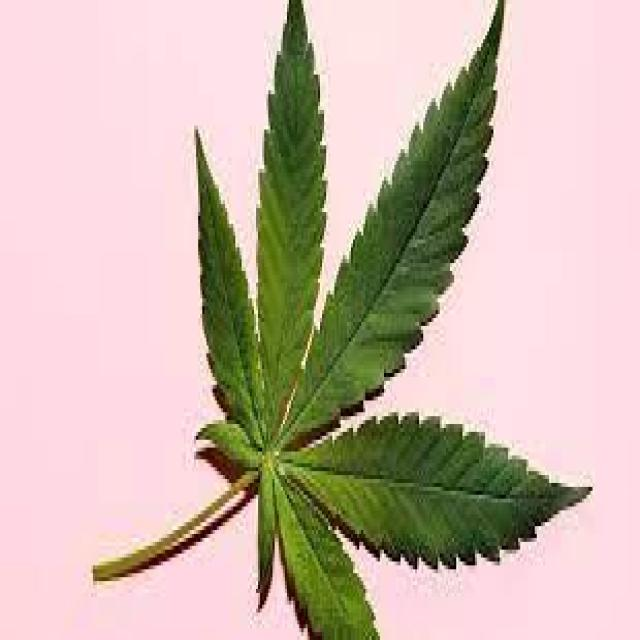cannabis: (89, 0, 595, 636)
